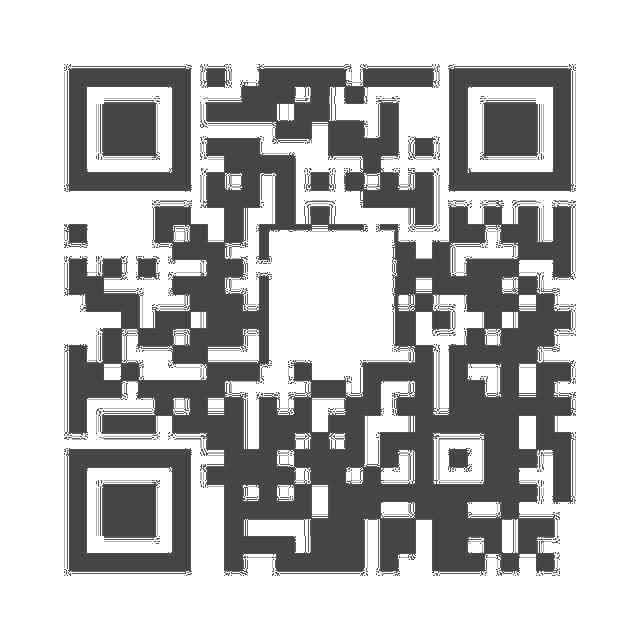qr_code: (53, 54, 593, 584)
